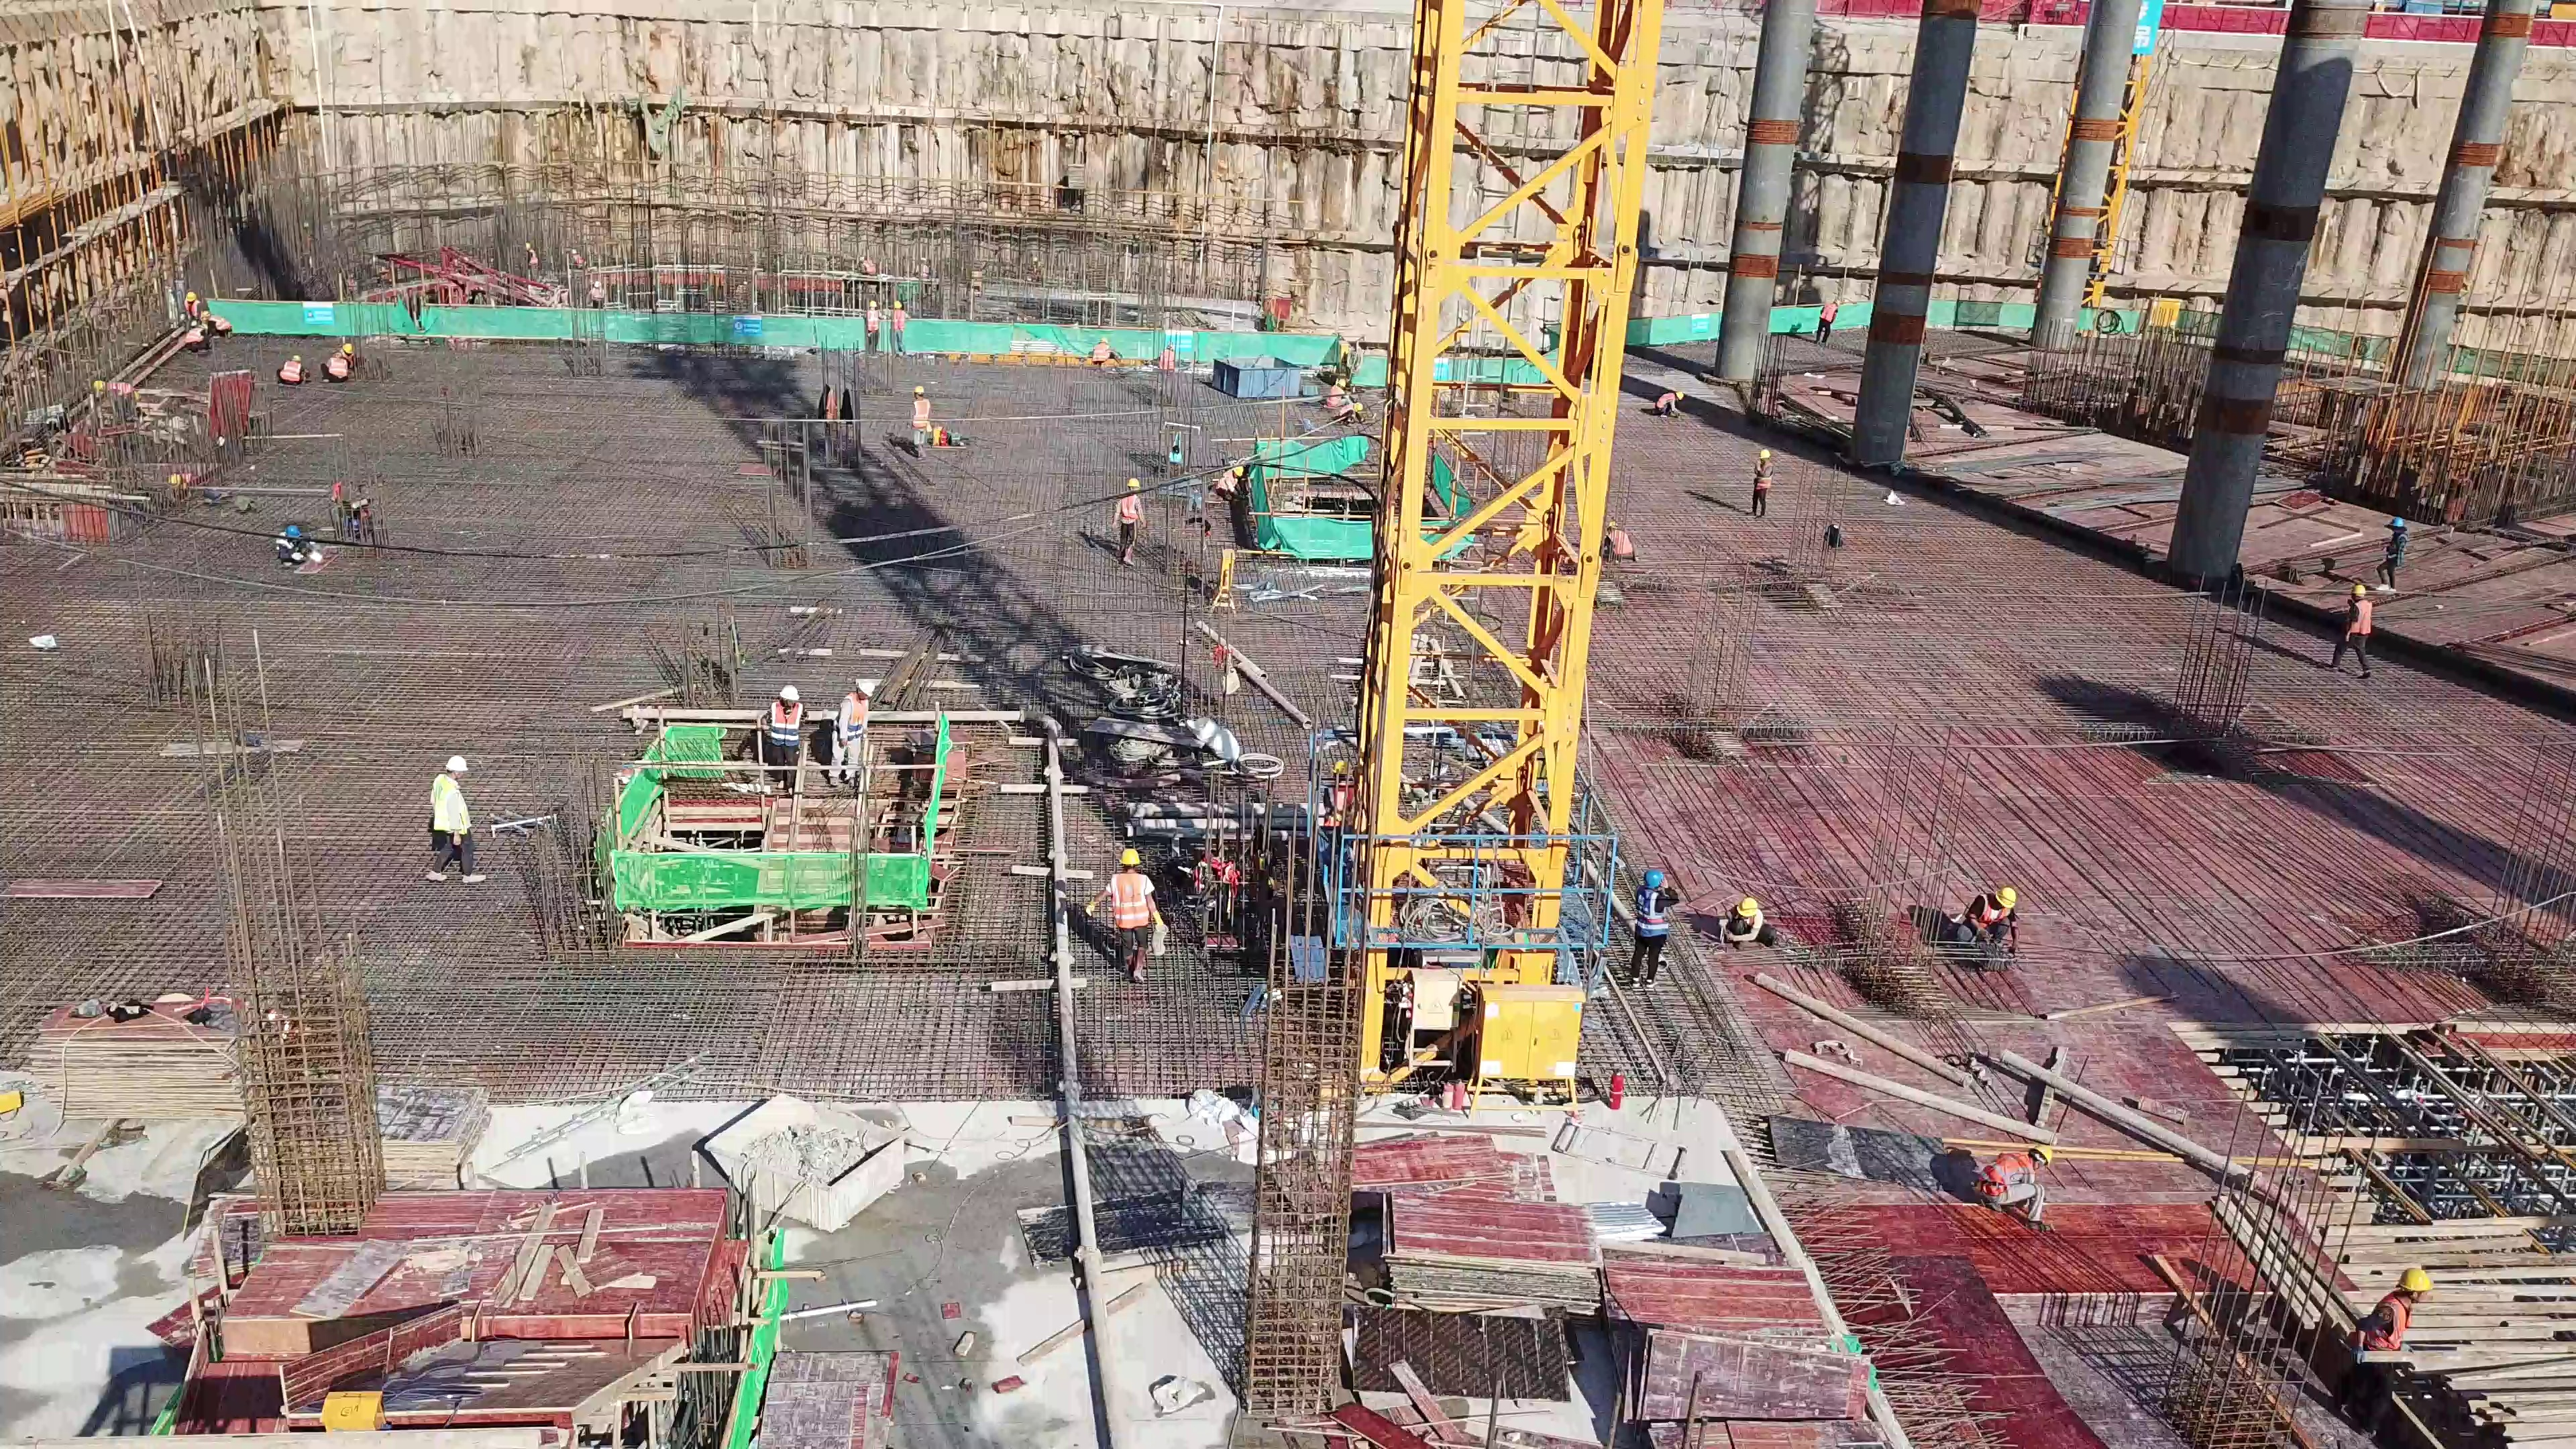helmet: (2399, 1265, 2429, 1292), (1735, 898, 1760, 916), (1996, 886, 2017, 908), (779, 685, 799, 702), (1120, 849, 1141, 866), (857, 680, 875, 699), (2031, 1144, 2050, 1163), (1645, 870, 1664, 890), (446, 756, 467, 772), (1334, 758, 1348, 775), (95, 380, 108, 394), (285, 525, 300, 537), (172, 471, 182, 486), (341, 341, 353, 355), (2353, 585, 2368, 596), (914, 384, 925, 397), (891, 300, 902, 310), (1233, 466, 1243, 478), (2393, 518, 2404, 527), (186, 292, 195, 302), (1128, 476, 1136, 487), (1761, 449, 1770, 458), (869, 298, 877, 306), (1674, 391, 1684, 398), (1338, 377, 1345, 386), (1355, 402, 1362, 410), (1833, 299, 1838, 305)
person: (2340, 1264, 2430, 1428), (1087, 849, 1167, 979), (425, 755, 490, 889), (1977, 1145, 2057, 1231), (1624, 870, 1675, 977), (758, 684, 806, 795), (1958, 886, 2029, 956), (2327, 583, 2375, 680), (832, 685, 867, 790), (1112, 478, 1148, 566), (1322, 759, 1357, 851), (1718, 899, 1771, 942), (2380, 519, 2406, 594), (276, 524, 320, 566), (1749, 449, 1770, 517), (91, 380, 140, 413), (910, 385, 928, 464), (1603, 520, 1638, 559), (885, 300, 907, 356), (1149, 344, 1176, 390), (1816, 299, 1839, 347), (1213, 466, 1242, 502), (201, 312, 233, 335), (866, 298, 881, 352), (1652, 390, 1682, 415), (1319, 375, 1340, 407), (1090, 337, 1112, 364), (187, 323, 208, 352), (1334, 400, 1359, 425), (277, 356, 299, 382), (323, 354, 345, 381), (523, 241, 535, 277), (588, 280, 604, 307), (184, 294, 201, 317), (337, 342, 356, 362), (858, 254, 873, 271), (570, 250, 579, 266)
vest: (1982, 1151, 2040, 1194), (2369, 1293, 2412, 1350), (1110, 873, 1152, 929), (432, 777, 469, 831), (1635, 887, 1669, 938), (836, 692, 864, 740), (769, 702, 797, 746), (1325, 787, 1354, 824), (1978, 890, 2000, 926), (103, 381, 136, 402), (2349, 602, 2370, 633), (1609, 531, 1630, 556), (280, 358, 297, 382), (1121, 494, 1137, 520), (914, 400, 927, 427), (210, 315, 228, 332), (189, 325, 205, 345), (1219, 468, 1234, 487), (330, 357, 345, 374), (1758, 460, 1768, 489), (182, 301, 197, 317), (1161, 350, 1171, 369), (895, 308, 904, 331), (1658, 392, 1670, 408), (1821, 303, 1833, 319), (1328, 384, 1338, 404), (867, 308, 875, 329), (1095, 343, 1105, 360)
